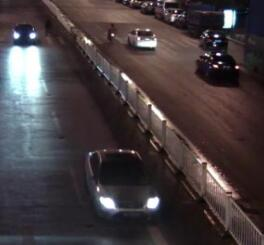car: (82, 146, 165, 225), (194, 46, 244, 86), (126, 25, 159, 51), (10, 20, 39, 47), (197, 27, 227, 48)
